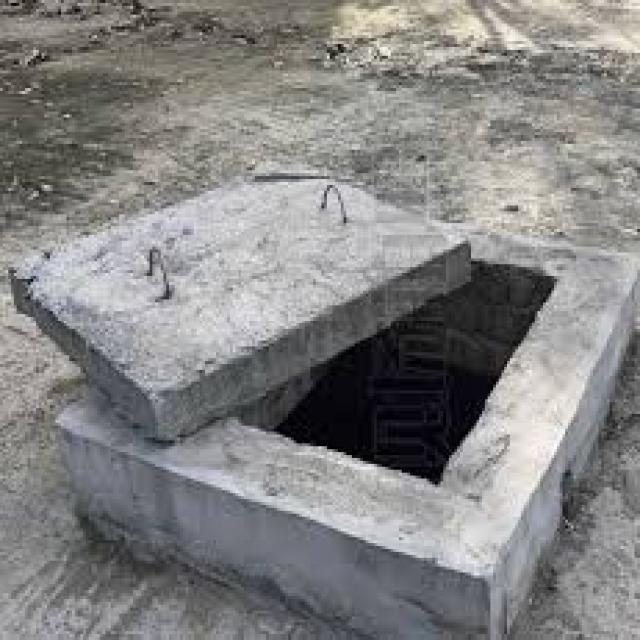manhole: (240, 264, 554, 484)
